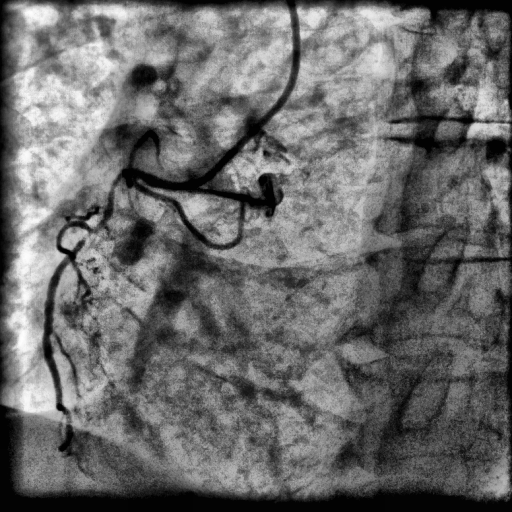rca: (42, 168, 189, 452)
